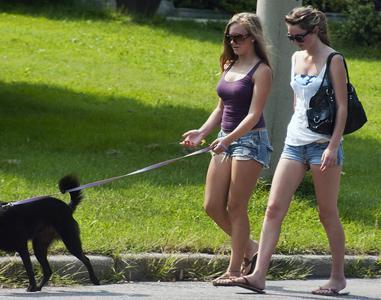person: (181, 13, 273, 286)
